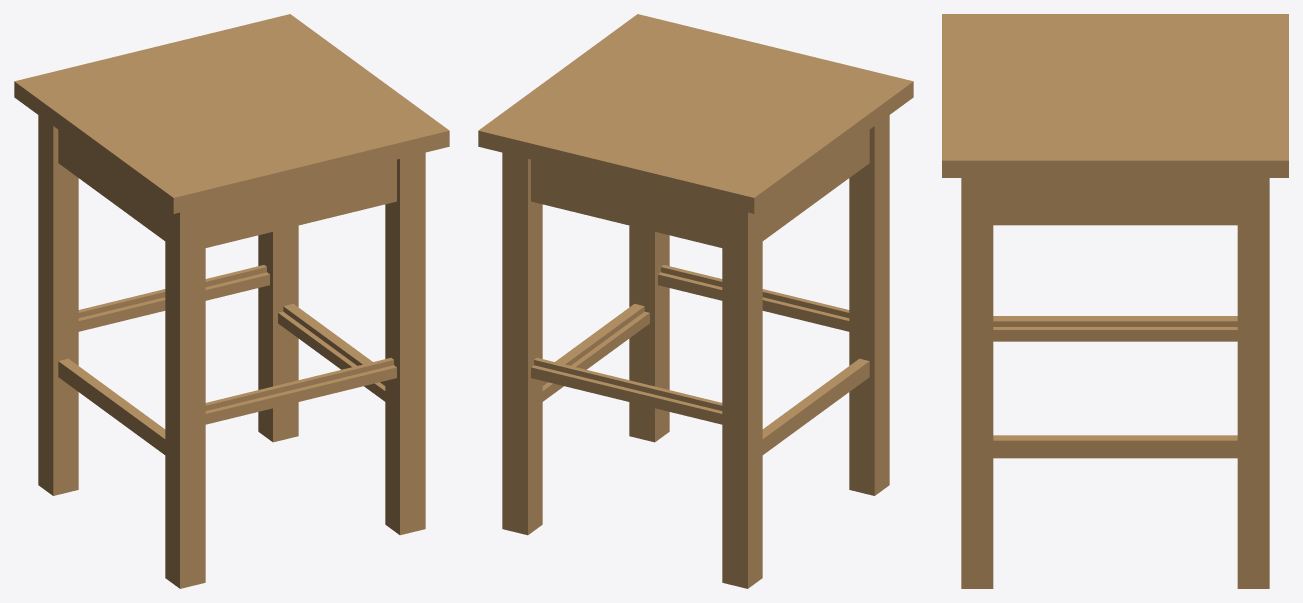
The model's file is stool_wood.glb.
The picture shows the model from 3 angles, left to right: view 1: azimuth 30°, elevation 25°; view 2: azimuth 150°, elevation 25°; view 3: azimuth 270°, elevation 25°; orthographic projection. The views are drawn at different scales.
Visible parts, largest first — view 1: stool_wood:compound; view 2: stool_wood:compound; view 3: stool_wood:compound.
Boxes of the visible parts, x1=… form: stool_wood:compound: x1=14, y1=14, x2=449, y2=588; stool_wood:compound: x1=478, y1=14, x2=913, y2=588; stool_wood:compound: x1=942, y1=14, x2=1288, y2=588.
Size of the model in its own units: 0.324 by 0.45 by 0.324.
